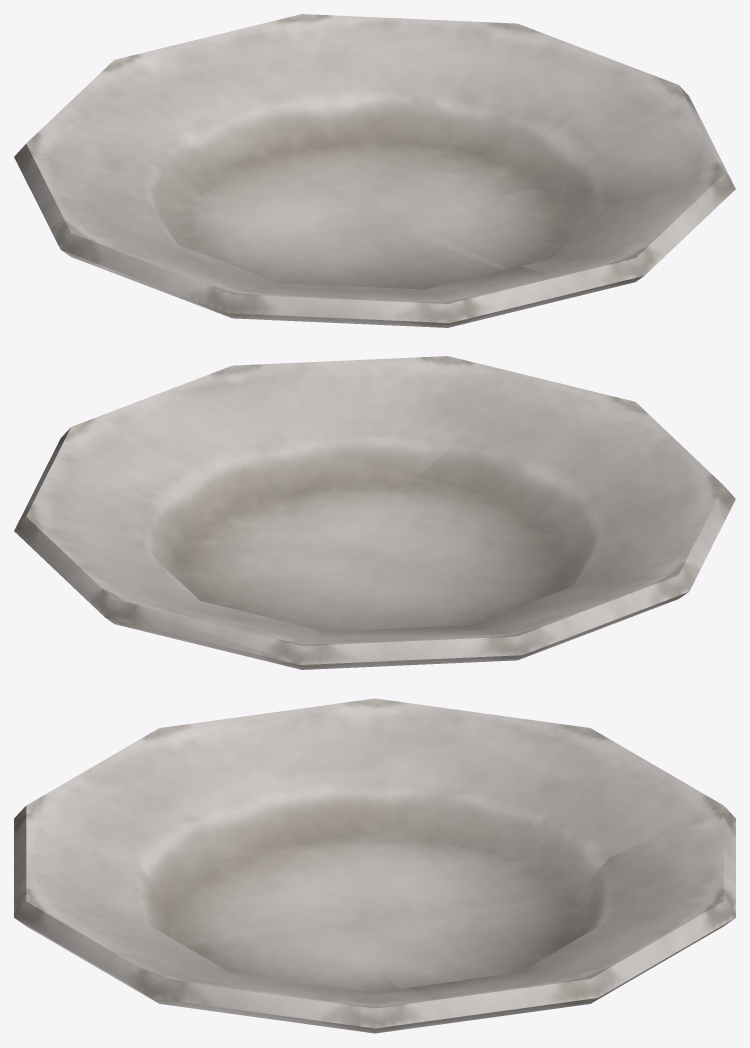
Rendered from assiette_shatter.fbx.
The picture shows the model from 3 angles, top to bottom: view 1: azimuth 30°, elevation 25°; view 2: azimuth 150°, elevation 25°; view 3: azimuth 270°, elevation 25°; orthographic projection. The views are drawn at different scales.
Parts seen in each view (by area): view 1: Pieces_3, Pieces_2_1, Pieces_1; view 2: Pieces_3, Pieces_1, Pieces_2_1; view 3: Pieces_3, Pieces_2_1, Pieces_1.
Part boxes in pixels (x1,y1,x2,y2): Pieces_3: [14, 67, 584, 327]; Pieces_2_1: [107, 14, 633, 224]; Pieces_1: [412, 68, 735, 294]; Pieces_3: [292, 374, 735, 669]; Pieces_1: [46, 356, 522, 549]; Pieces_2_1: [14, 451, 361, 667]; Pieces_3: [14, 698, 735, 947]; Pieces_2_1: [350, 799, 735, 1023]; Pieces_1: [14, 863, 444, 1033].
Size of the model in its own units: 10.8 by 1.42 by 10.27.
2 materials, 1 textured.
